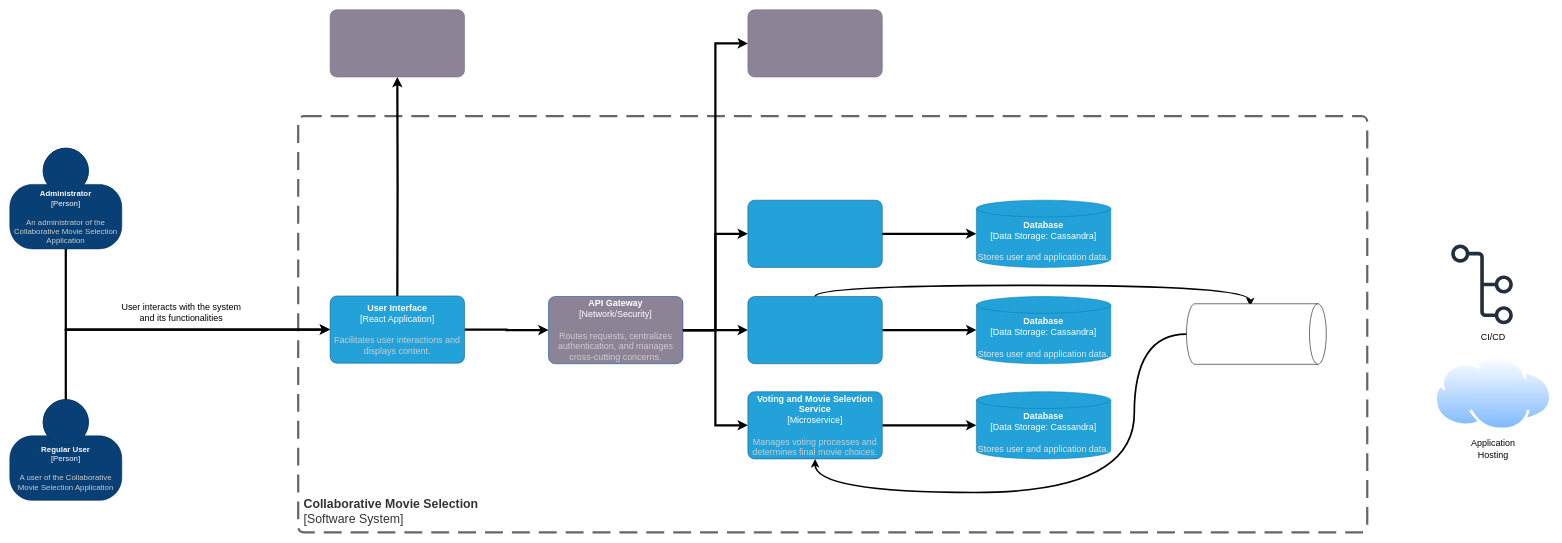
Some shapes in this 1562 by 543 pixel diagram are drawn without their labels. The centre of each missing label's shape, as x and y in pixels:
Auth0 [External authentication system] Description of external software system.: the point at 397,43
Favorites Management [Microservice] Manages favorite movie for each user.: the point at 814,330
Message Queue [RabbitMQ]: the point at 1256,333
Movie Data API [TMDB] Description of external software system.: the point at 814,43
User Management [Microservice] Manages user accounts and profiles.: the point at 814,233
